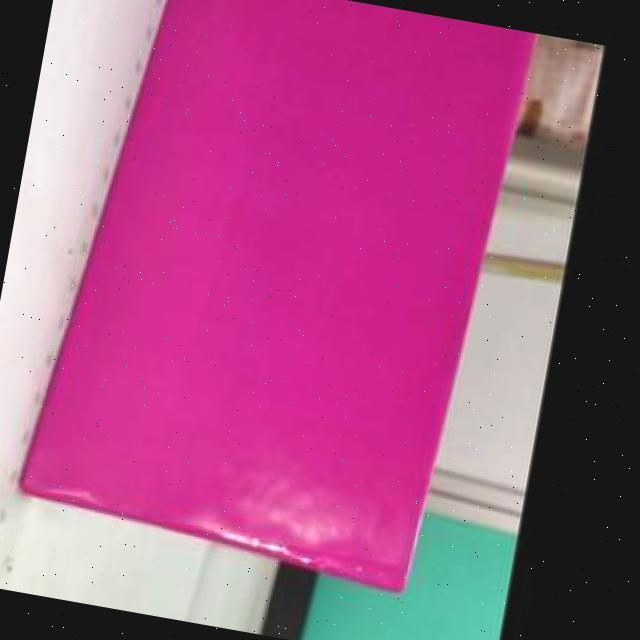xparking: (15, 0, 531, 595)
